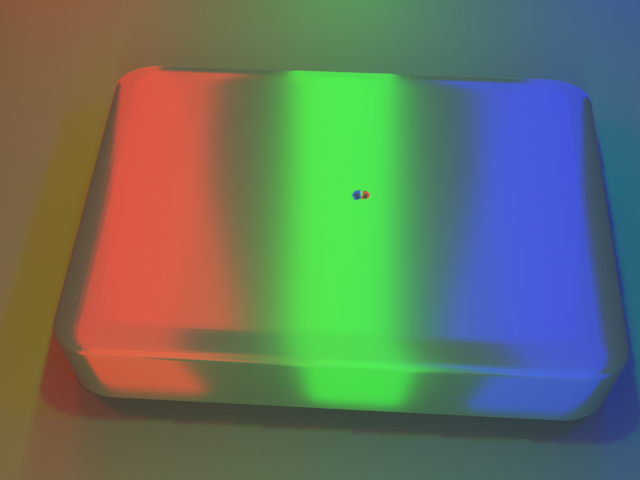dent: (344, 175, 384, 214)
